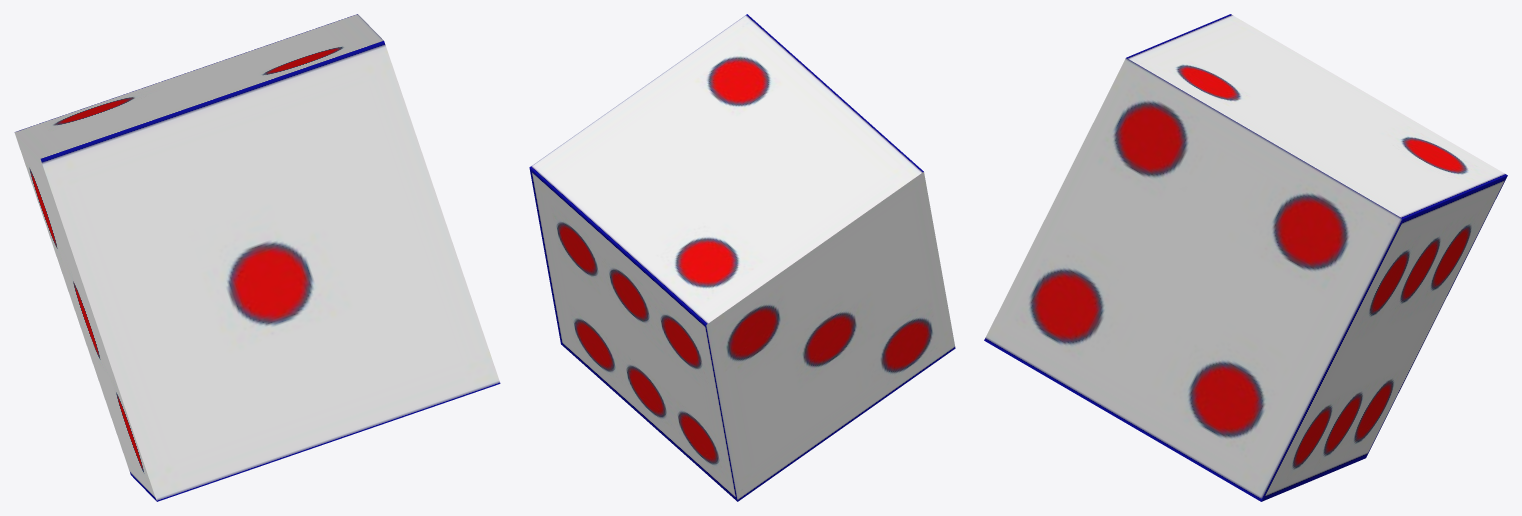
File: Dice2.fbx
3 views of the same model, side by side, from view 1: azimuth 30°, elevation 25°; view 2: azimuth 150°, elevation 25°; view 3: azimuth 270°, elevation 25° (orthographic). The views are drawn at different scales.
Visible parts, largest first — view 1: dice1; view 2: dice1; view 3: dice1.
Boxes of the visible parts, x1,y1,x2,y2 form: dice1: (14, 14, 500, 501); dice1: (529, 14, 955, 501); dice1: (984, 14, 1507, 501).
Size of the model in its own units: 1.43 by 1.52 by 1.59.
